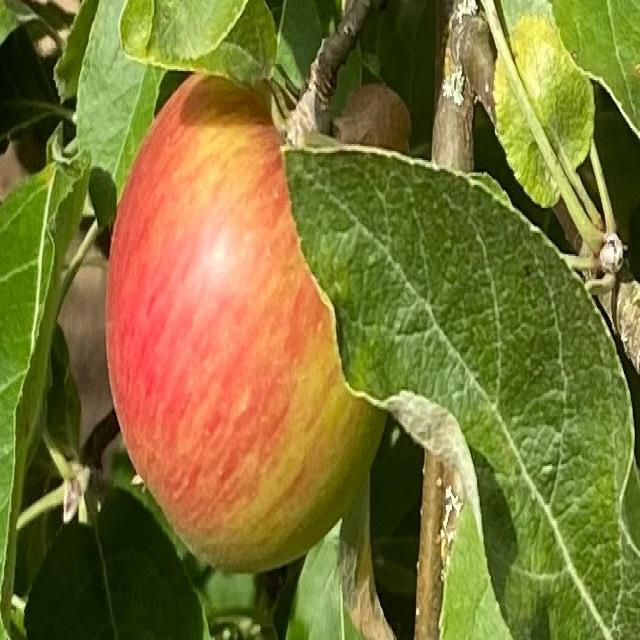Apples: (108, 73, 385, 572)
